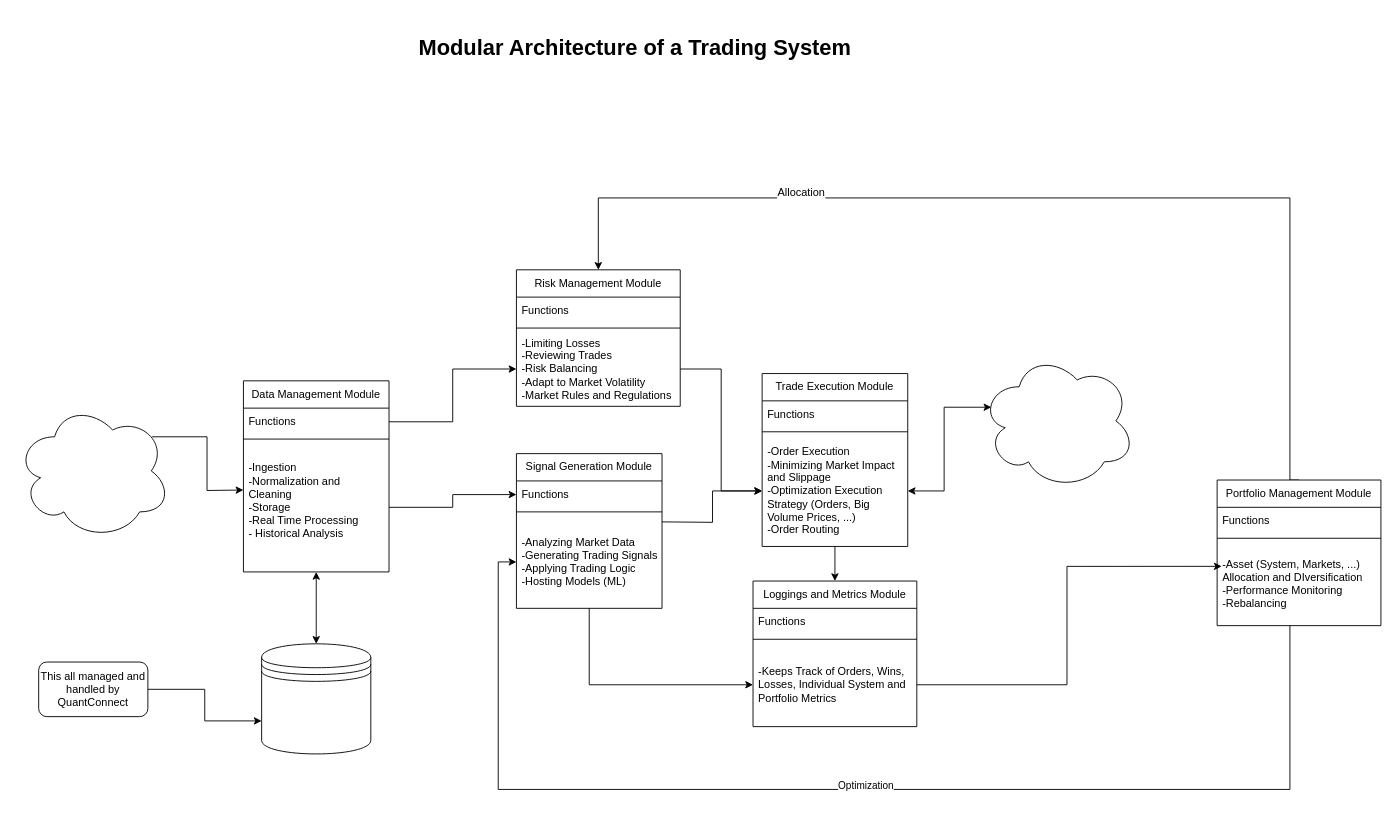
Image size: 1397x813. Some labels were removed from this diagram. Here are the shapes that lost their labels. From the top down, the centre of each, then its label:
the point at 1057,420: Order Routing
the point at 93,470: Data Feed
the point at 316,698: Pesistent Files and Data Bases
